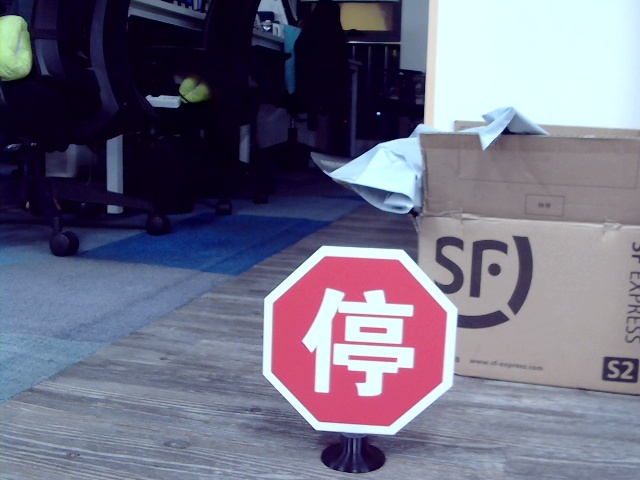stop: (305, 279, 414, 396)
